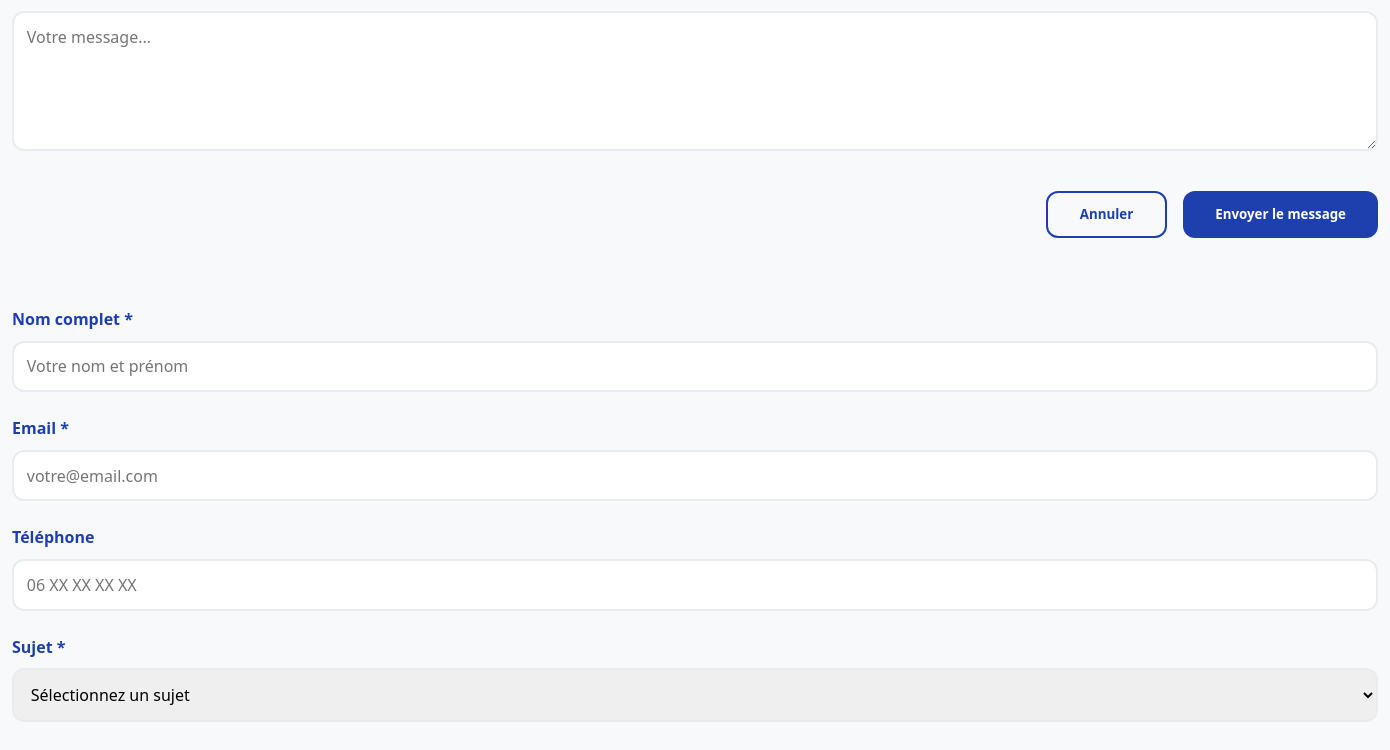
it: ContactForm › disables submit button while submitting
(page scrolled)
# Fill form with valid data
Type "John Doe" into the field with id "name" at (695, 366), box [12, 341, 1378, 392]
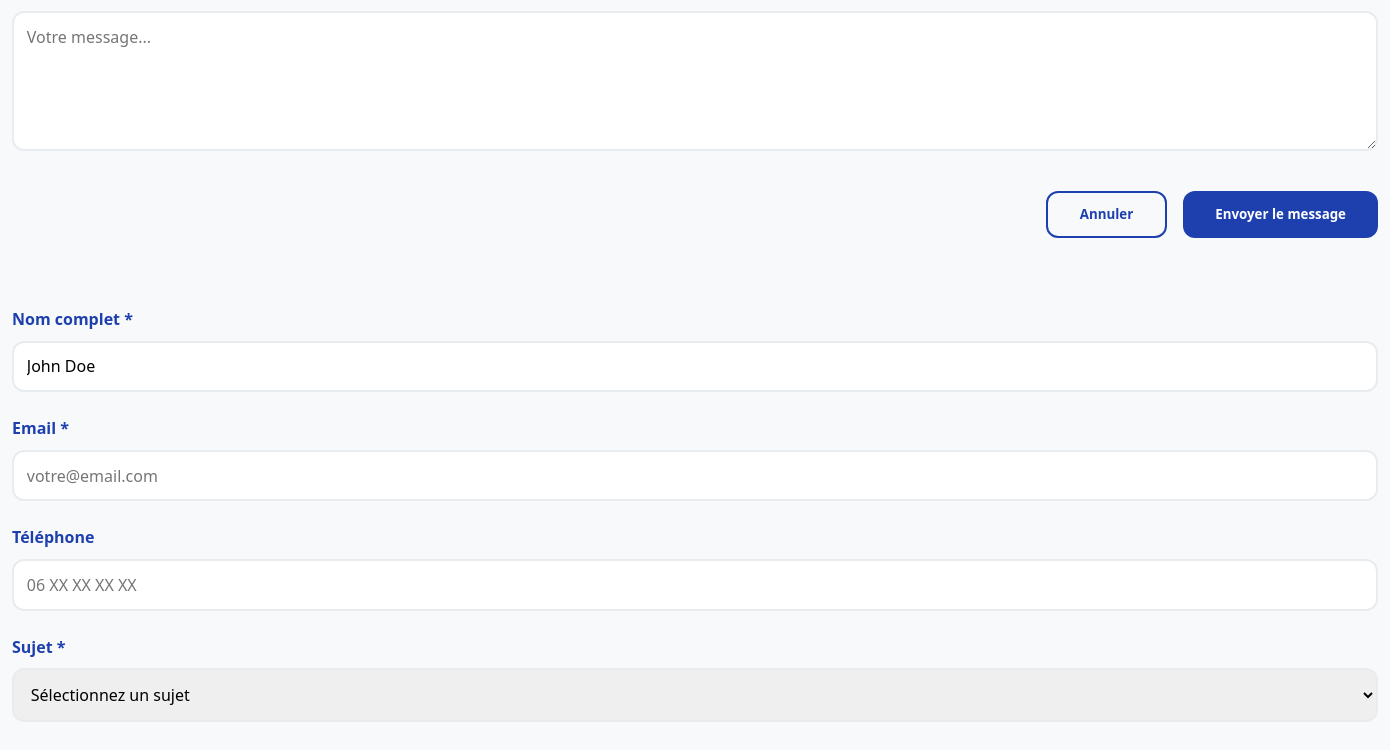
Type "john@example.com" into the field with id "email" at (695, 476), box [12, 450, 1378, 501]
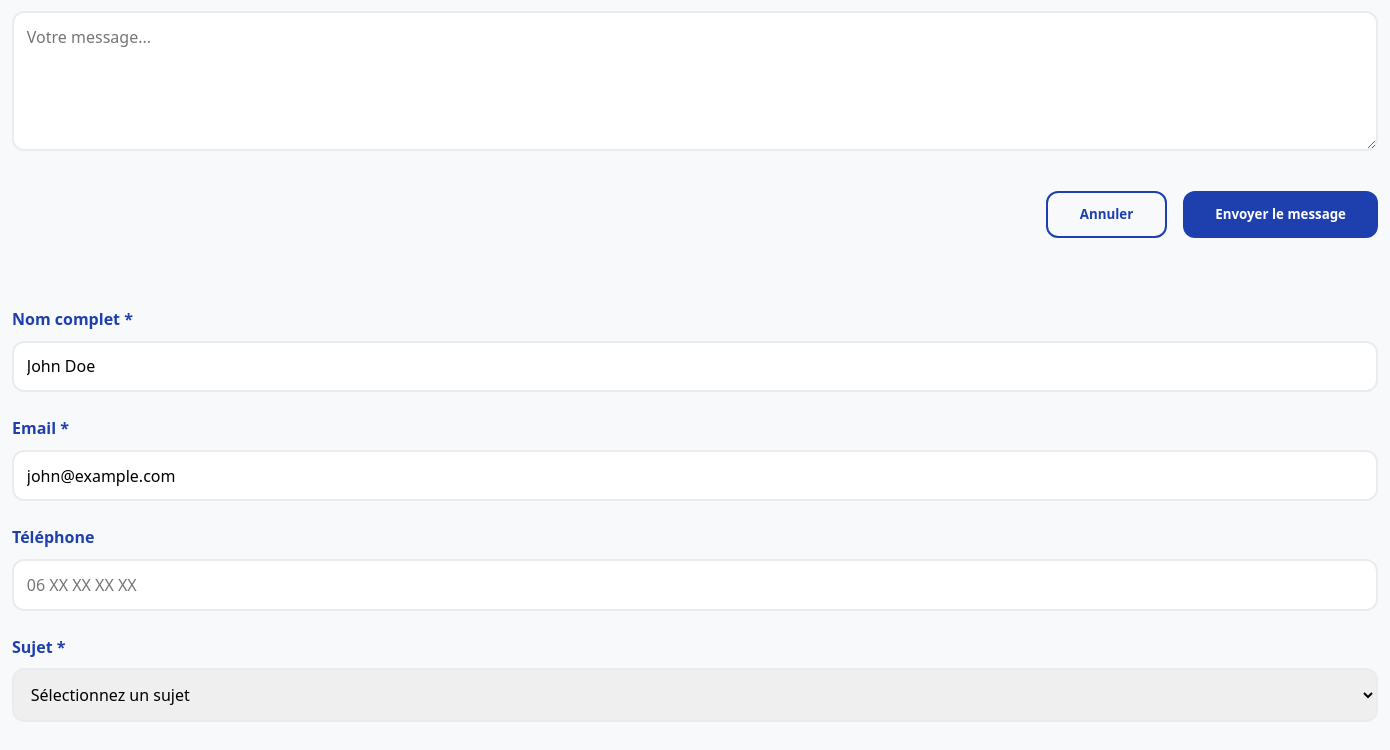
Select "Inscription au club" in the dropdown with id "subject" at (695, 695), box [12, 668, 1378, 722]
(page scrolled)
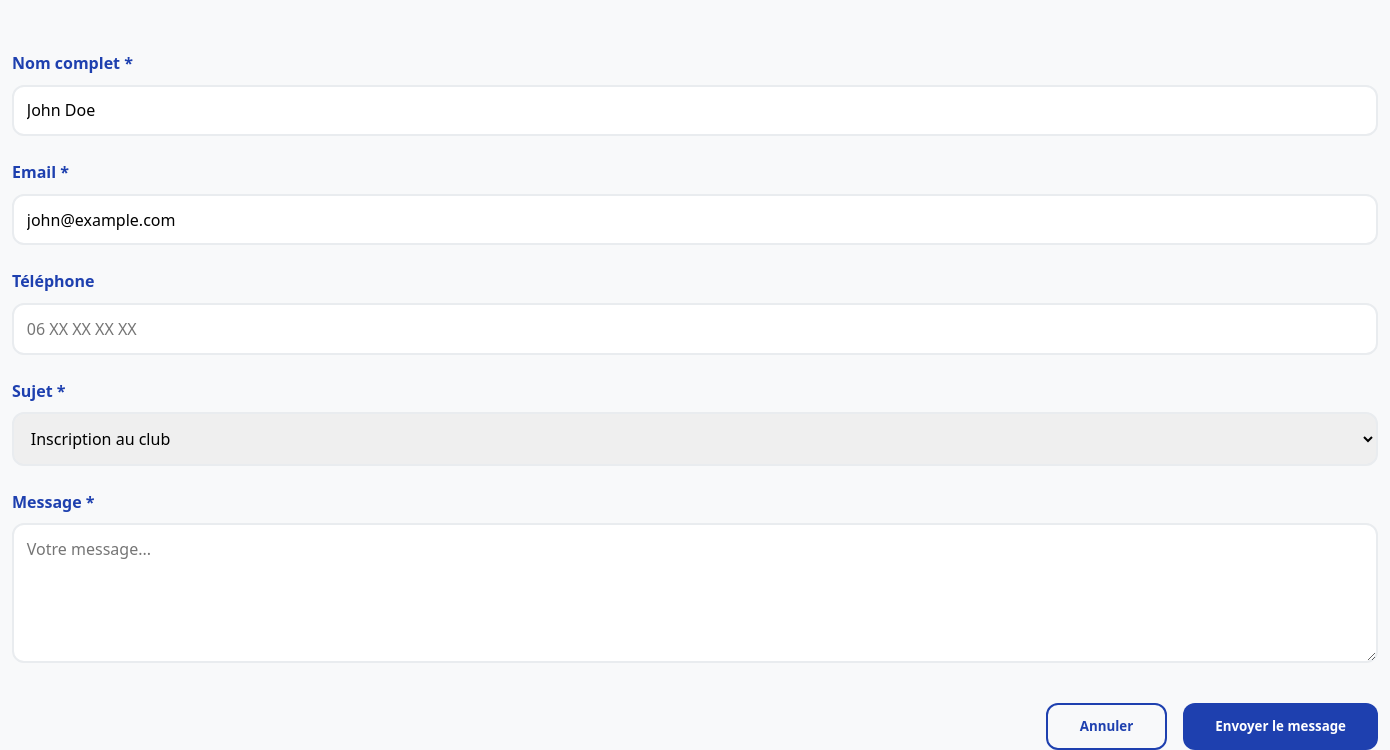
Type "Test message" into the text box with id "message" at (695, 593), box [12, 523, 1378, 663]
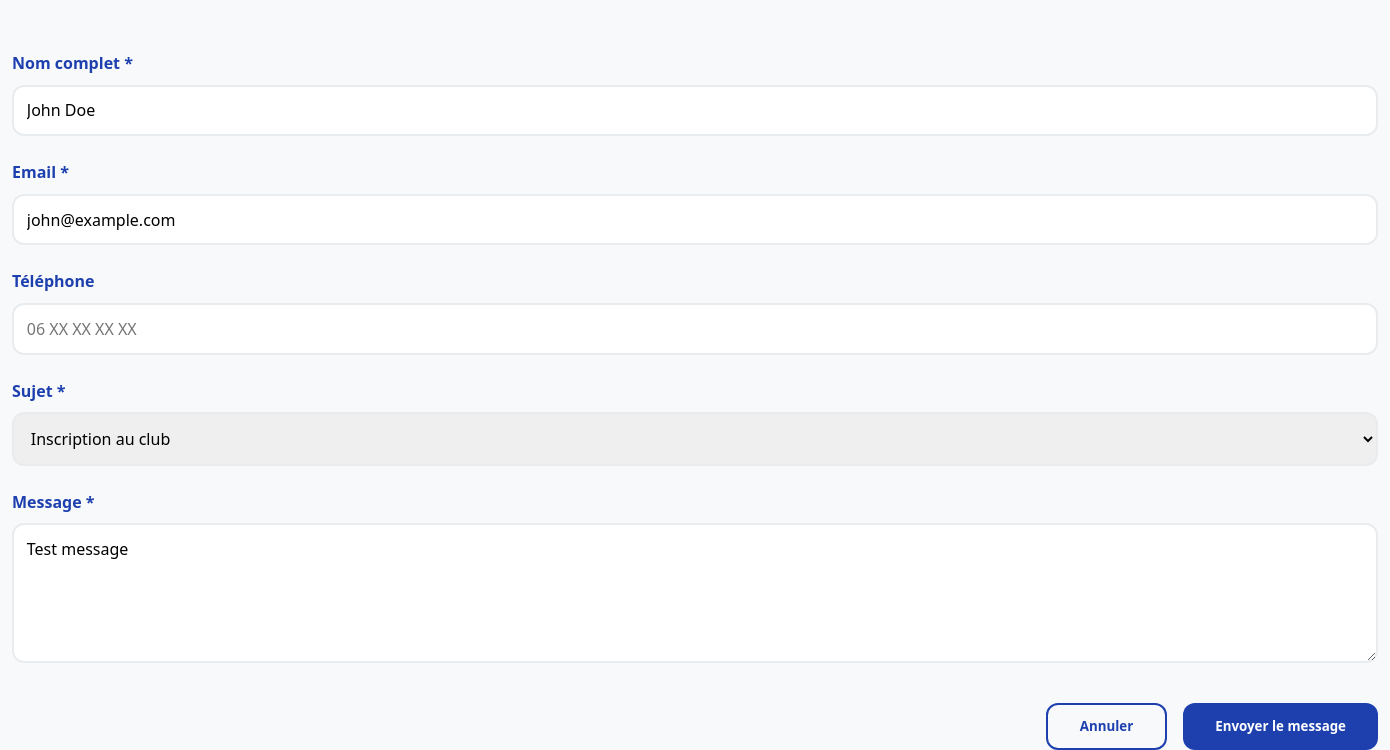
Click the submit button at (1281, 726), box [1183, 702, 1378, 749]
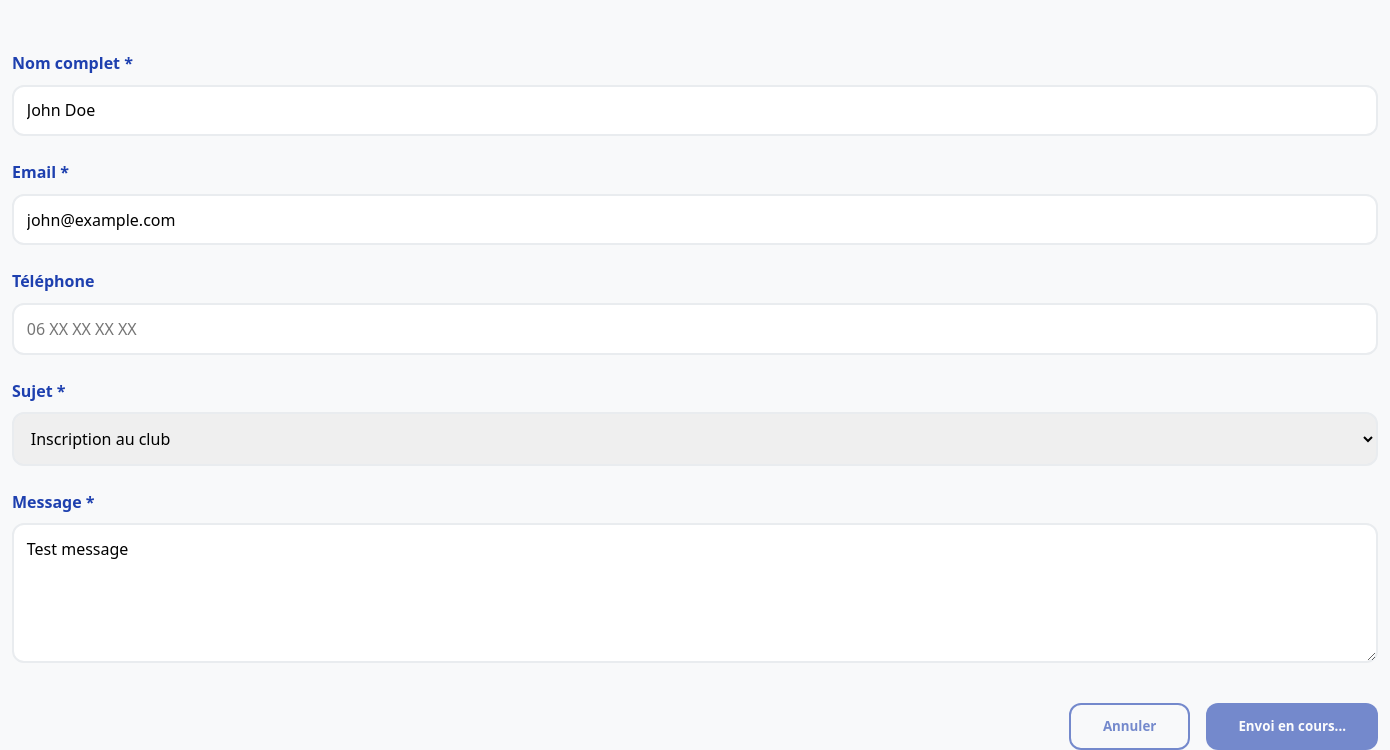
Now the submit button is disabled, box [1206, 702, 1378, 749]
Now the submit button shows "Envoi en cours", box [1206, 702, 1378, 749]
